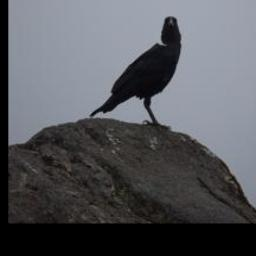Crow: (90, 14, 184, 128)
